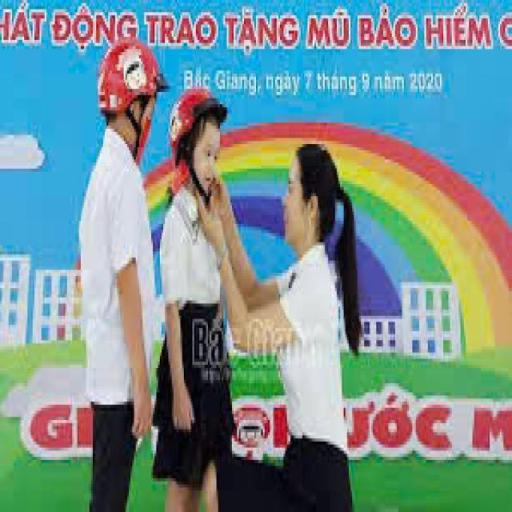with helmet: (98, 36, 168, 120), (168, 89, 230, 155)
